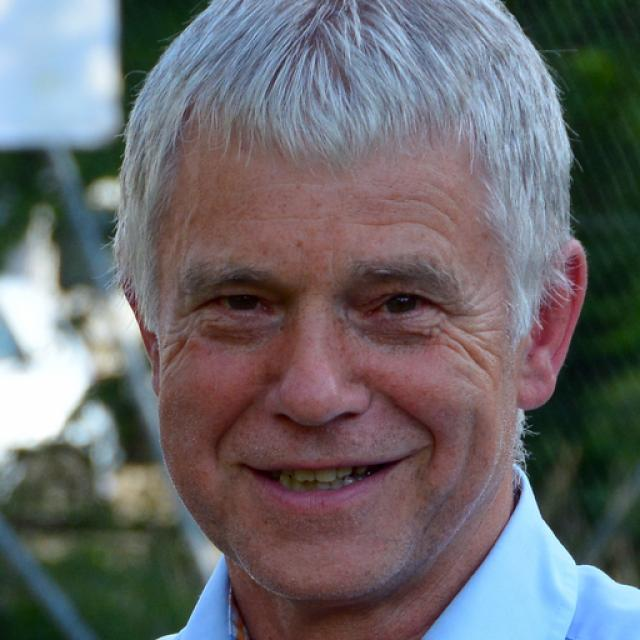happy: (150, 85, 524, 605)
